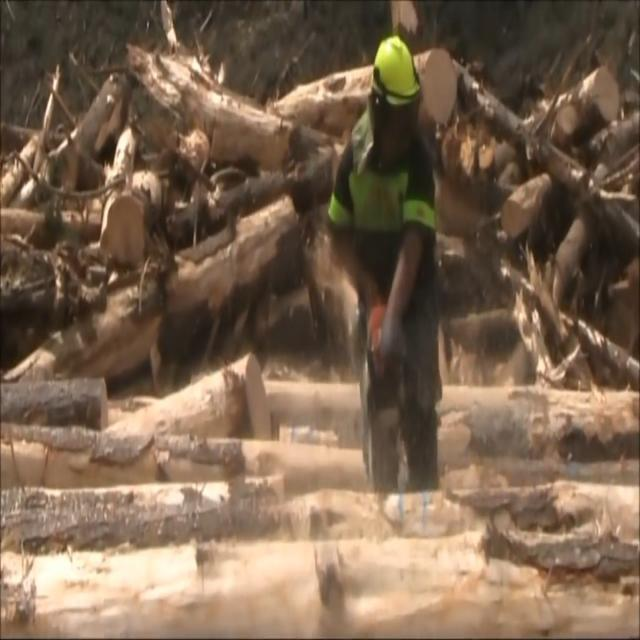Chainsaw: (345, 290, 405, 530)
